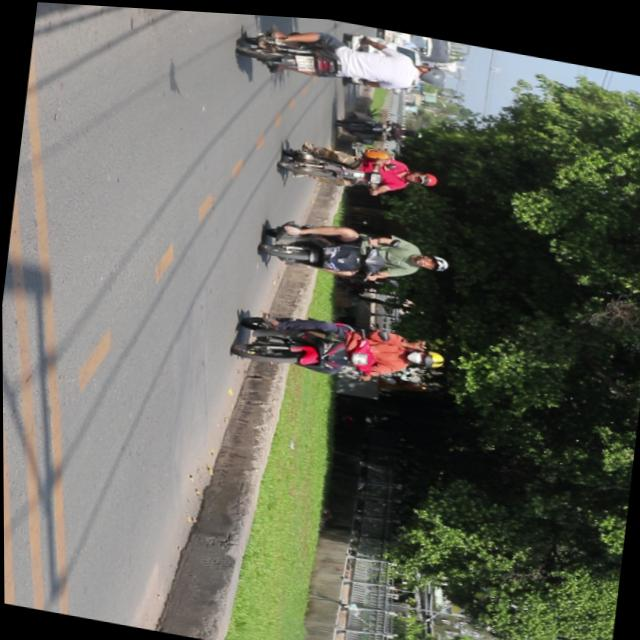helmet: (406, 341, 446, 366), (413, 246, 449, 269), (417, 59, 449, 83), (409, 165, 438, 183)
licenseplate: (227, 296, 449, 392), (238, 13, 451, 101), (257, 206, 453, 292), (276, 129, 441, 202)
nohelmet: (294, 50, 317, 68)
